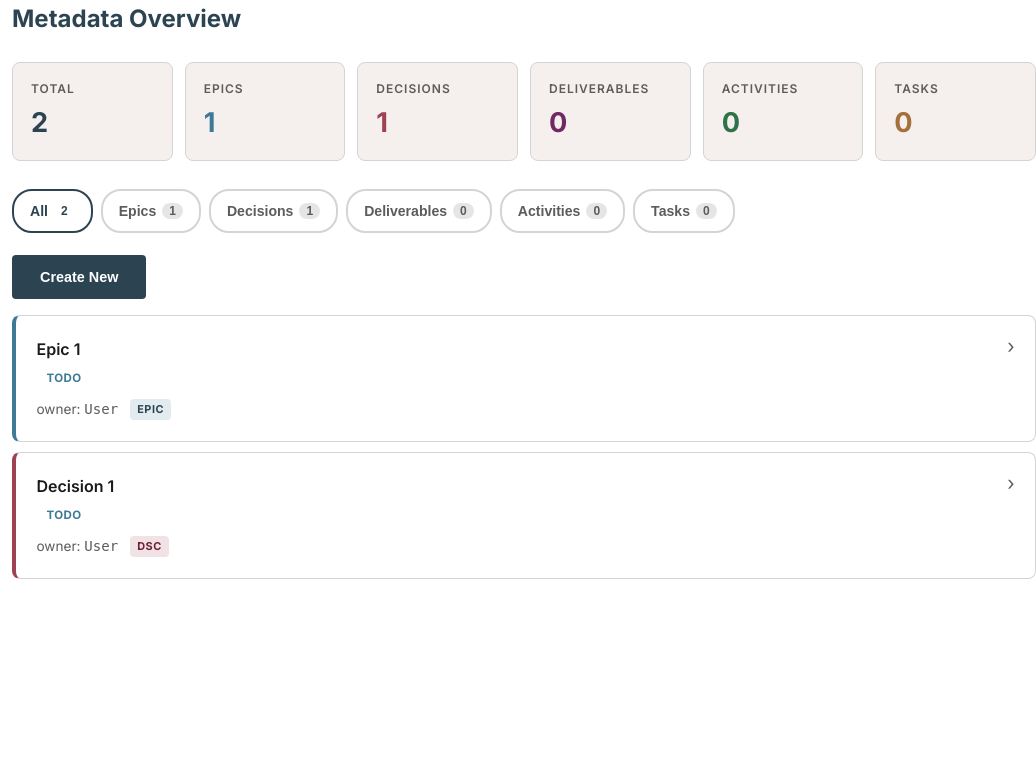
Test: OverviewPage Integration Tests › filters items when clicking Epic tab
Expected: the text "Epic 1" is shown, [36,337,80,362]
Expected: the text "Decision 1" is shown, [36,474,114,499]
Step 1. Click the tab "Epics 1" → (151, 211), box [101,189,201,233]
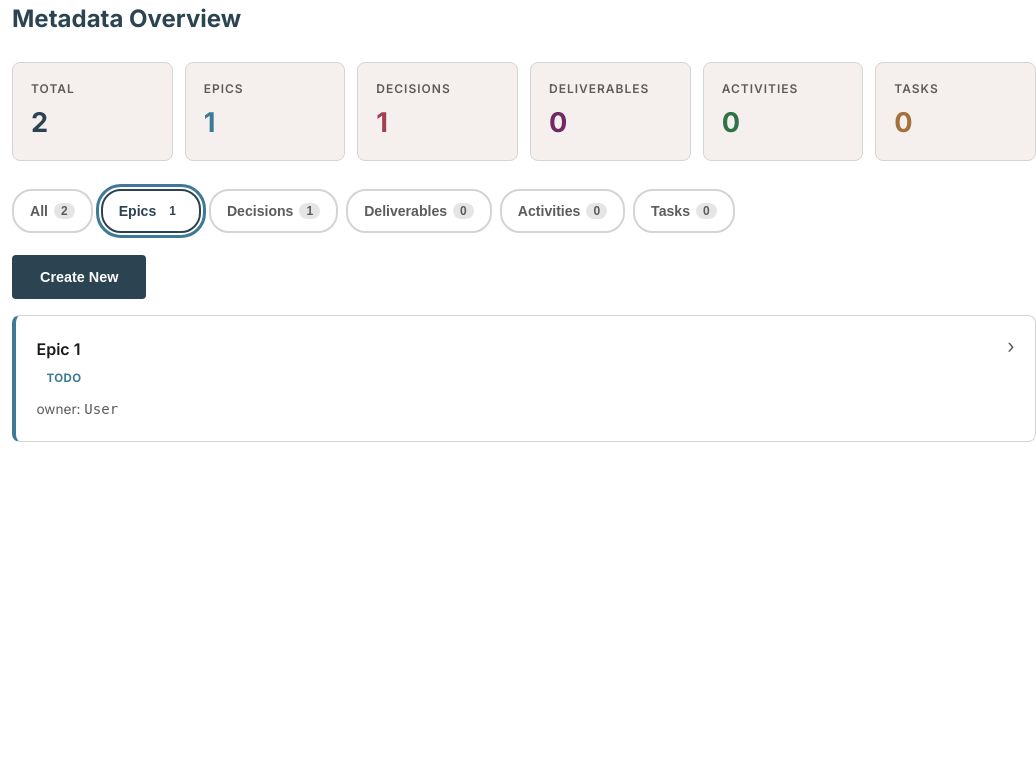
Expected: the text "Epic 1" is shown, [36,337,80,362]
Now the button "Decision 1" is gone
